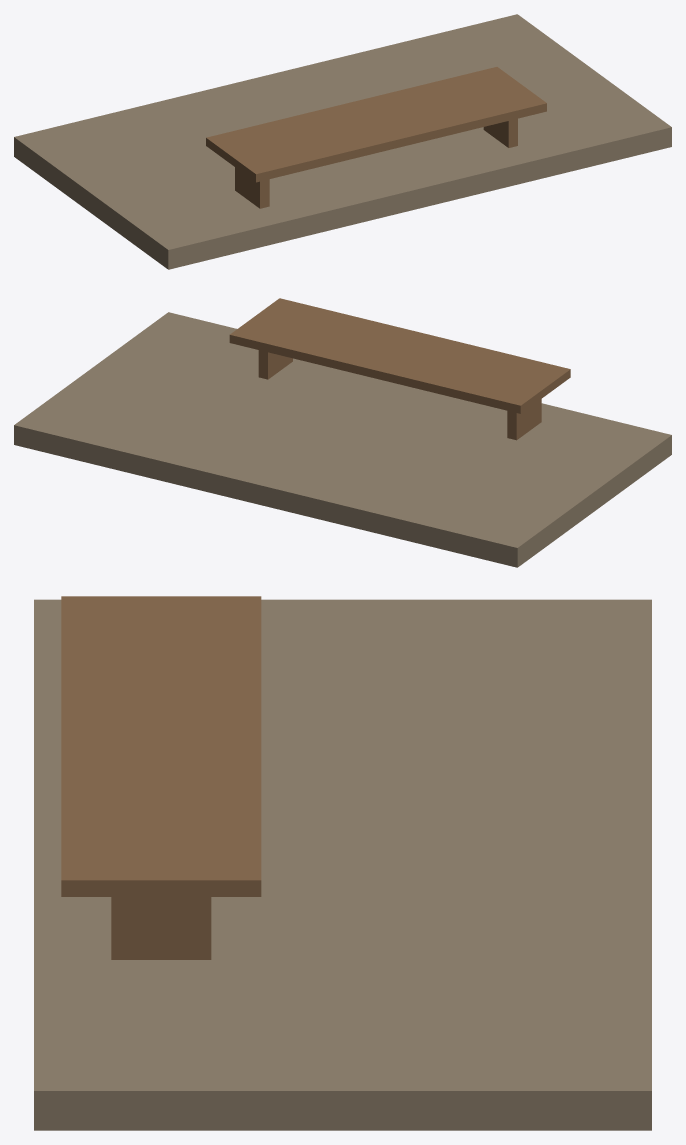
File: M3D_RA2_Entorno.fbx
3 renders of one model, top to bottom at view 1: azimuth 30°, elevation 25°; view 2: azimuth 150°, elevation 25°; view 3: azimuth 270°, elevation 25°, orthographic. The views are drawn at different scales.
Parts seen in each view (by area): view 1: SM_Tierra, SM_MesaPrendas, SM_PataMesa_0, SM_PataMesa_1; view 2: SM_Tierra, SM_MesaPrendas, SM_PataMesa_0, SM_PataMesa_1; view 3: SM_Tierra, SM_MesaPrendas, SM_PataMesa_1.
Boxes of the visible parts, x1,y1,x2,y2 form: SM_Tierra: [14, 14, 671, 269]; SM_MesaPrendas: [206, 67, 546, 182]; SM_PataMesa_0: [235, 167, 269, 208]; SM_PataMesa_1: [483, 118, 517, 147]; SM_Tierra: [14, 312, 671, 567]; SM_MesaPrendas: [229, 298, 570, 413]; SM_PataMesa_0: [507, 399, 541, 440]; SM_PataMesa_1: [258, 350, 292, 379]; SM_Tierra: [34, 599, 651, 1130]; SM_MesaPrendas: [61, 596, 261, 896]; SM_PataMesa_1: [111, 897, 211, 959].
Bounding box in the file's own units: 6.4 × 0.82 × 3.4.
